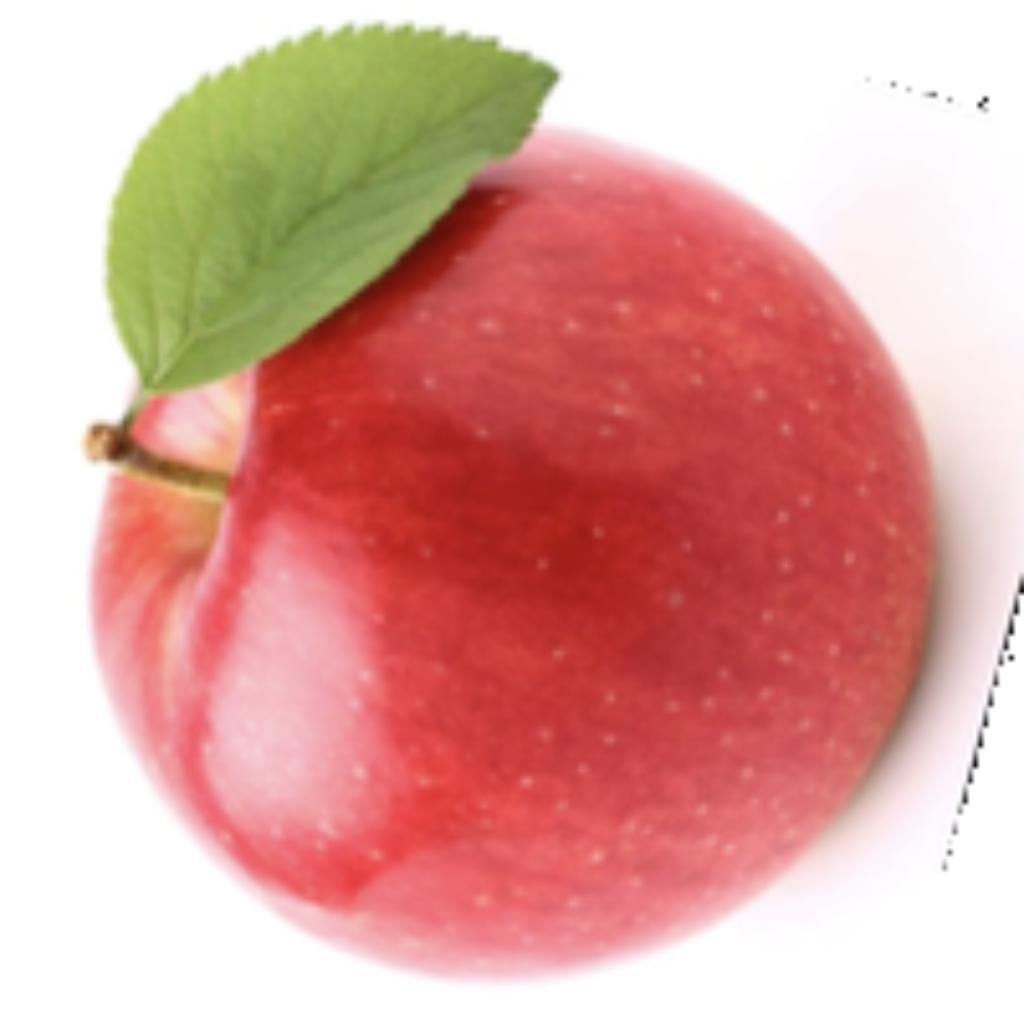apple: (77, 15, 1019, 988)
